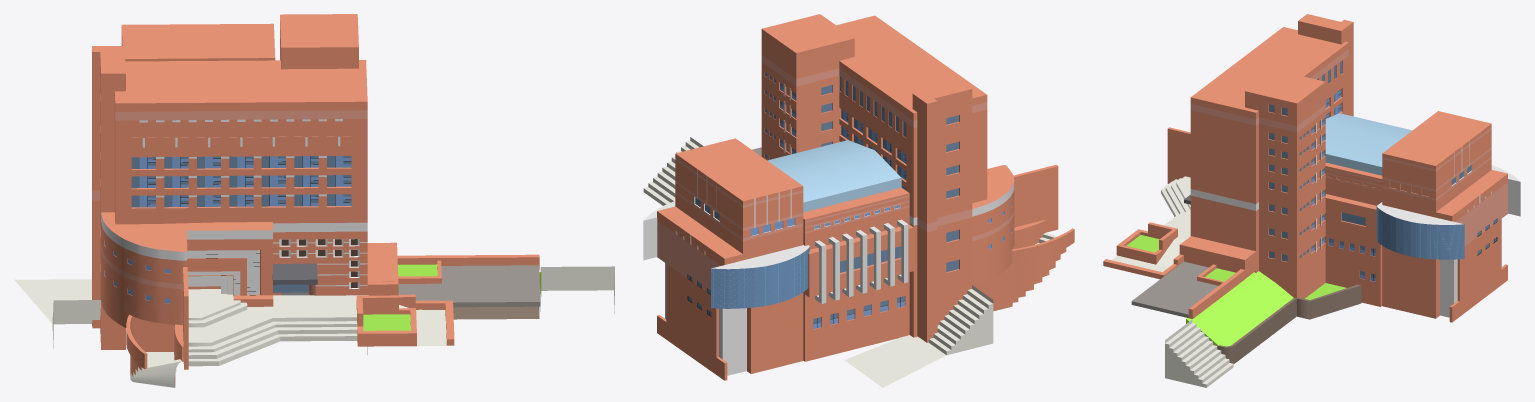
File: cacc.fbx
The picture shows the model from 3 angles, left to right: view 1: azimuth 30°, elevation 25°; view 2: azimuth 150°, elevation 25°; view 3: azimuth 270°, elevation 25°; orthographic projection. The views are drawn at different scales.
Parts seen in each view (by area): view 1: CACC_032, CACC_001, CACC_020, CACC_005, CACC_002, CACC_009, CACC_006, CACC_046, CACC_026, CACC_012, CACC_004, CACC_056 (+12 smaller); view 2: CACC_006, CACC_009, CACC_001, CACC_011, CACC_046, CACC_052, CACC_025, CACC_054, CACC_053, CACC_005, CACC_044, CACC_038 (+18 smaller); view 3: CACC_001, CACC_006, CACC_056, CACC_053, CACC_011, CACC_025, CACC_048, CACC_022, CACC_028, CACC_046, CACC_026, CACC_020 (+16 smaller).
Boxes of the visible parts, bbox=[...] form: CACC_032: bbox=[115, 136, 367, 224]; CACC_001: bbox=[114, 60, 367, 354]; CACC_020: bbox=[188, 289, 446, 366]; CACC_005: bbox=[101, 212, 272, 327]; CACC_002: bbox=[131, 156, 351, 207]; CACC_009: bbox=[92, 46, 125, 349]; CACC_006: bbox=[121, 23, 275, 61]; CACC_046: bbox=[14, 266, 614, 348]; CACC_026: bbox=[398, 265, 540, 307]; CACC_012: bbox=[273, 231, 367, 295]; CACC_004: bbox=[115, 119, 367, 138]; CACC_056: bbox=[280, 14, 358, 69]; CACC_006: bbox=[665, 138, 803, 375]; CACC_009: bbox=[912, 81, 972, 342]; CACC_001: bbox=[836, 15, 987, 337]; CACC_011: bbox=[767, 140, 909, 249]; CACC_046: bbox=[643, 137, 993, 387]; CACC_052: bbox=[803, 272, 909, 361]; CACC_025: bbox=[657, 206, 742, 380]; CACC_054: bbox=[796, 38, 854, 152]; CACC_053: bbox=[761, 29, 797, 160]; CACC_005: bbox=[972, 165, 1014, 285]; CACC_044: bbox=[711, 247, 809, 308]; CACC_038: bbox=[805, 224, 913, 297]; CACC_001: bbox=[1190, 27, 1348, 272]; CACC_006: bbox=[1382, 111, 1501, 318]; CACC_056: bbox=[1245, 69, 1325, 315]; CACC_053: bbox=[1297, 82, 1325, 298]; CACC_011: bbox=[1325, 113, 1412, 205]; CACC_025: bbox=[1436, 170, 1507, 322]; CACC_048: bbox=[1186, 271, 1293, 346]; CACC_022: bbox=[1326, 228, 1380, 306]; CACC_028: bbox=[1376, 206, 1464, 259]; CACC_046: bbox=[1165, 320, 1233, 387]; CACC_026: bbox=[1131, 261, 1218, 317]; CACC_020: bbox=[1112, 176, 1190, 272].
Size of the model in its own units: 6.66 by 3.71 by 6.58.
